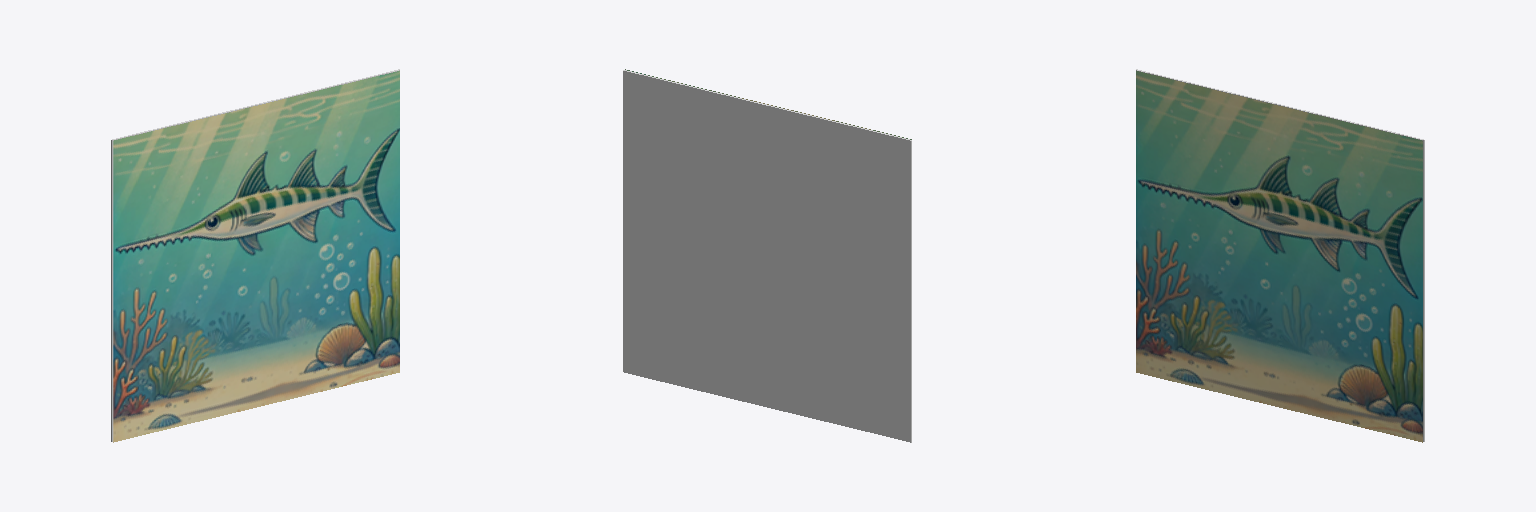
3 renders of one model, left to right at view 1: azimuth 30°, elevation 25°; view 2: azimuth 150°, elevation 25°; view 3: azimuth 330°, elevation 25°, orthographic.
Parts seen in each view (by area): view 1: sawfish, ID2; view 2: ID2; view 3: sawfish, ID2.
Boxes of the visible parts, box(x1,y1,x2,y2) form: sawfish: box(113, 71, 399, 442); ID2: box(111, 69, 399, 441); ID2: box(623, 70, 911, 442); sawfish: box(1136, 71, 1422, 442); ID2: box(1136, 69, 1424, 441).
Bounding box in the file's own units: 0.3048 × 0.3048 × 0.003.
2 materials, 1 textured.